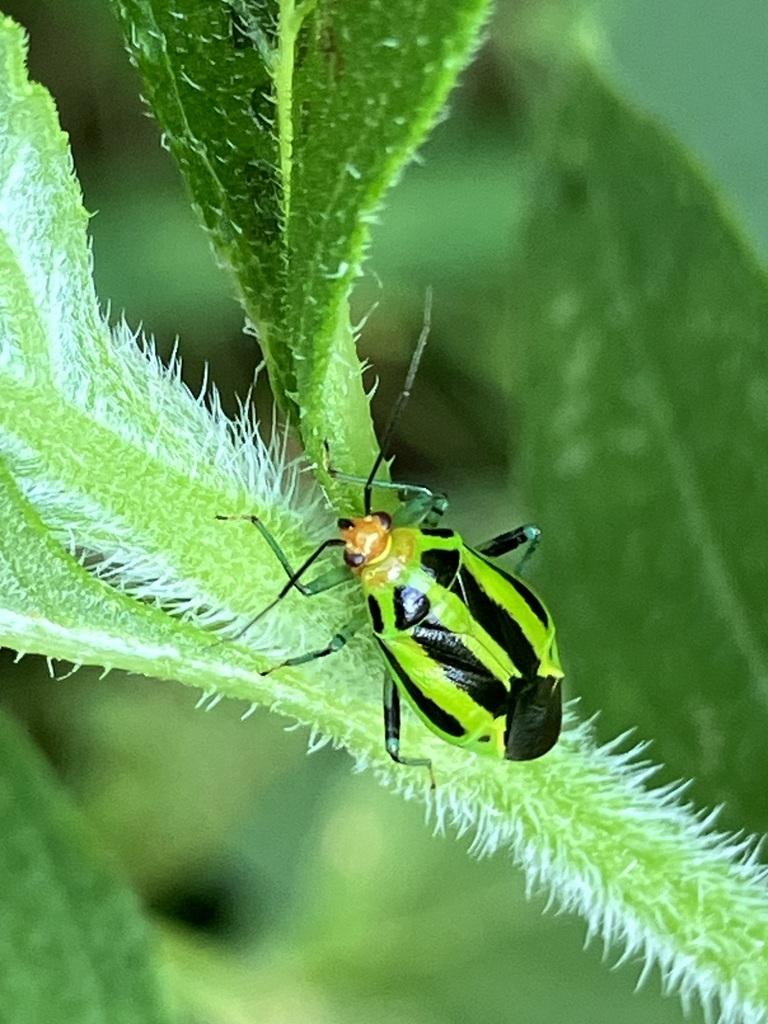plant_bugs: (190, 271, 621, 820)
